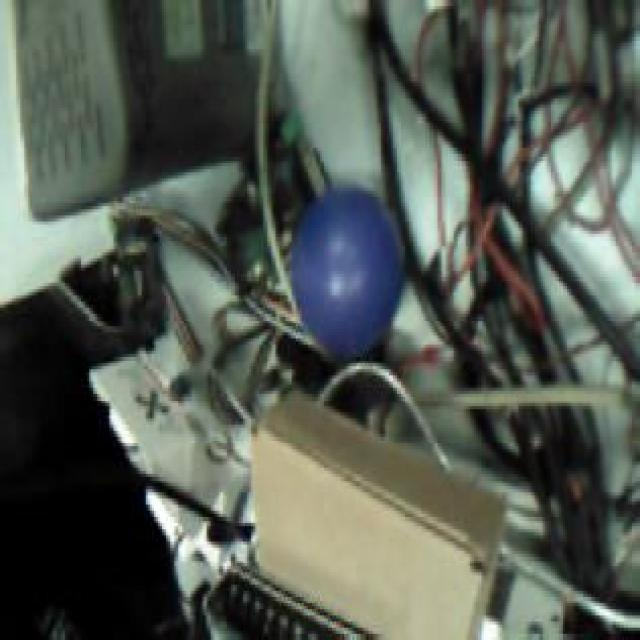BallPurple: (290, 183, 402, 360)
